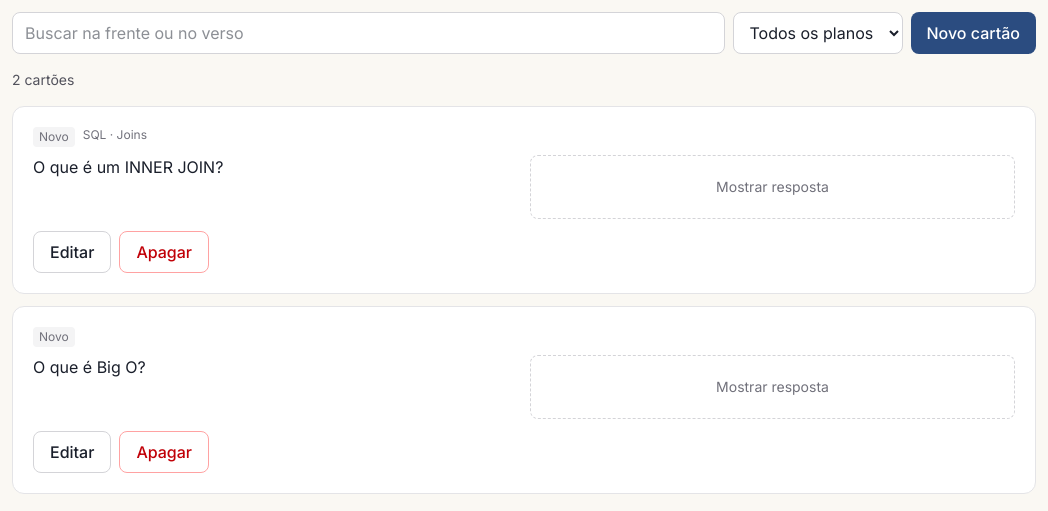
Cartões › apagar pede confirmação na própria página
Click the button "Apagar" below "O que é Big O?": (164, 452) [119,431,209,473]
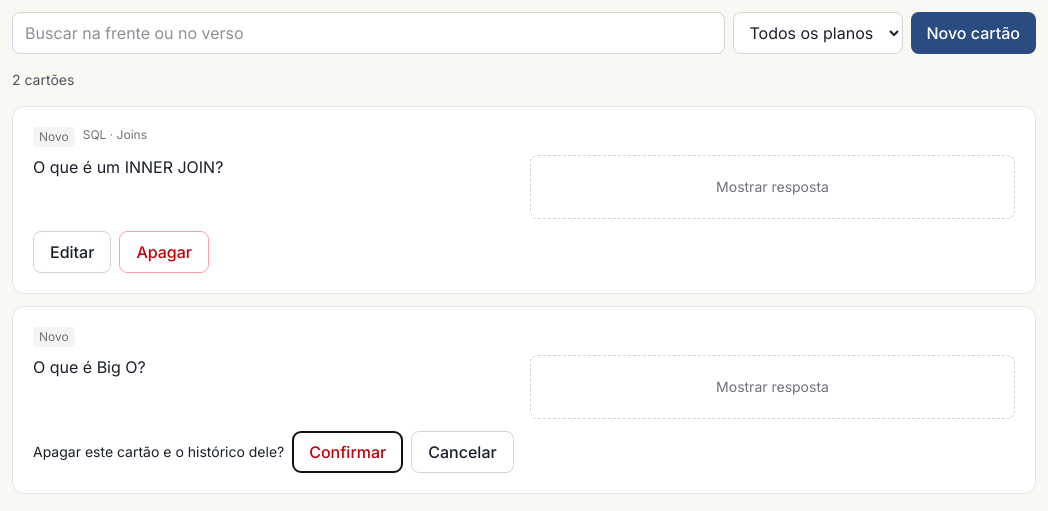
Click the button "Confirmar": (348, 452) [292,431,403,473]
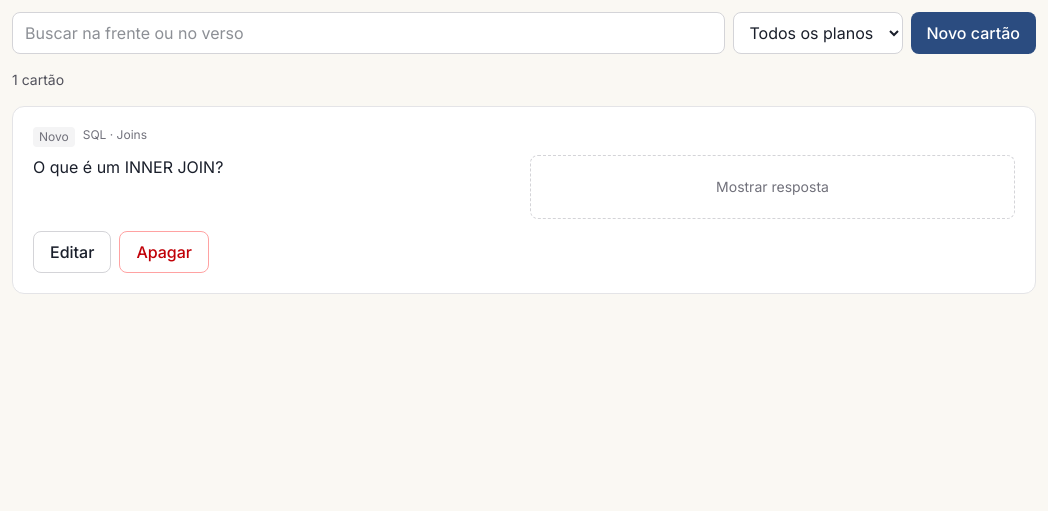
Result: the text "O que é Big O?" is gone
